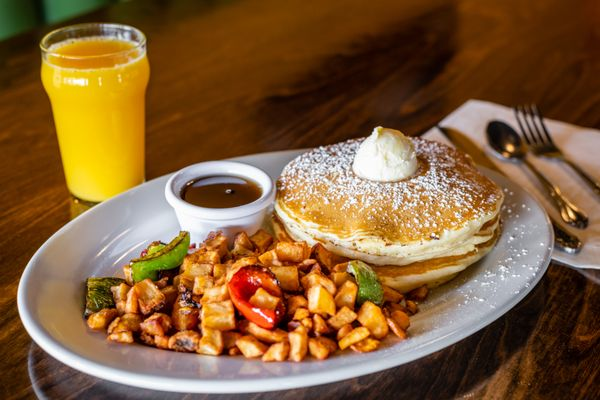curry: (128, 231, 191, 282), (85, 277, 121, 312)
pizza: (164, 160, 276, 240)
soup: (272, 126, 507, 292)
sushi: (164, 160, 276, 241)
